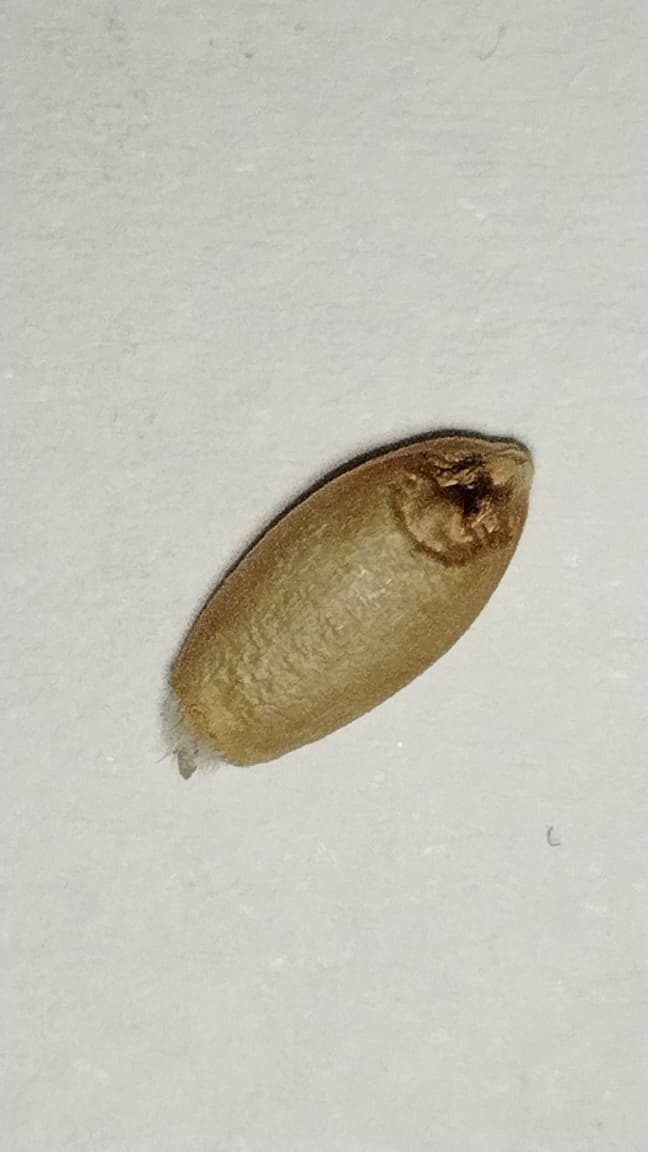healthy: (172, 436, 530, 763)
